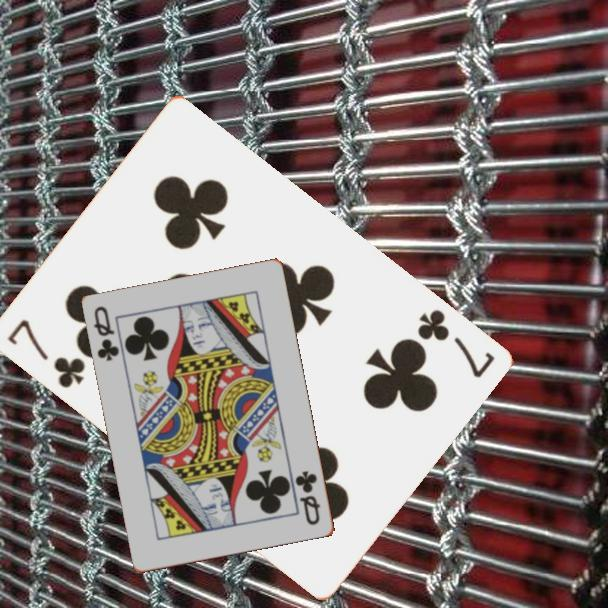c07: (3, 316, 88, 392), (413, 305, 497, 381)
c12: (91, 303, 123, 364), (292, 468, 323, 528)
